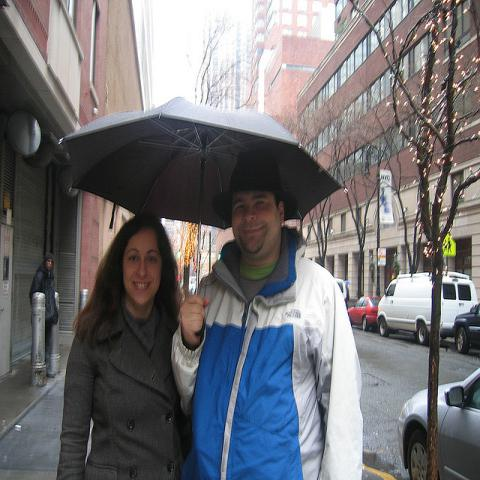car: (397, 366, 479, 480), (378, 270, 477, 345), (453, 302, 479, 357), (347, 297, 381, 332), (335, 278, 348, 310)
